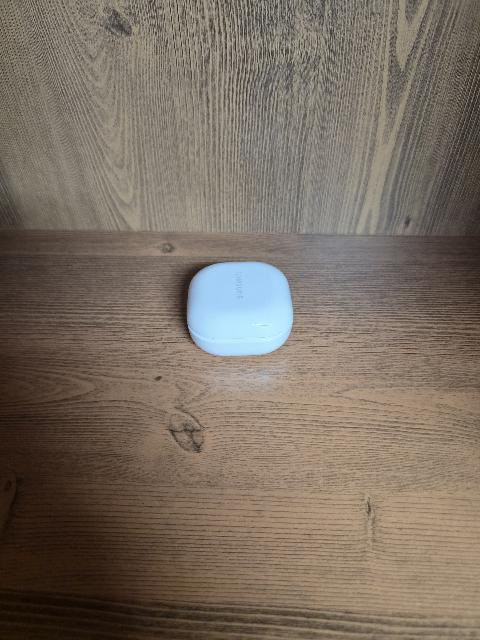earphone_case: (186, 261, 293, 355)
